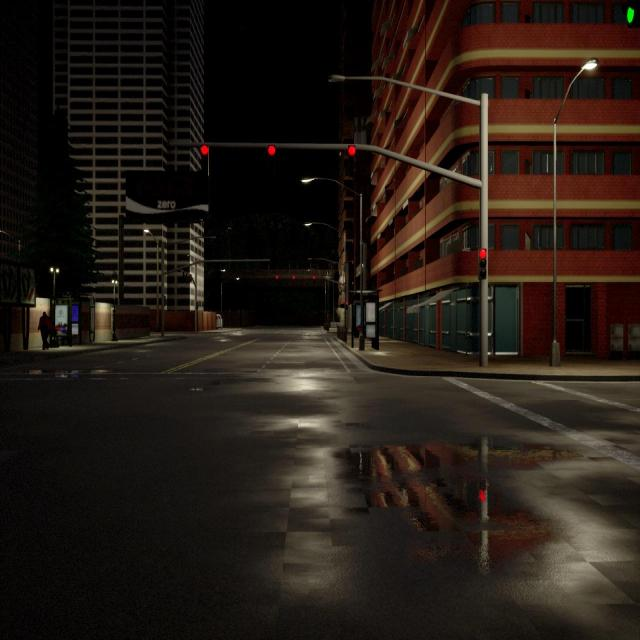Pedestrian: (38, 309, 52, 349)
Vehicle: (216, 314, 223, 330)
traffic_light: (626, 0, 640, 28), (478, 249, 486, 279), (201, 144, 208, 174), (268, 145, 276, 170), (348, 145, 355, 171), (188, 274, 192, 282), (345, 302, 348, 310), (182, 271, 185, 279), (186, 272, 188, 280), (292, 276, 295, 280), (312, 275, 315, 279), (276, 275, 278, 279)
